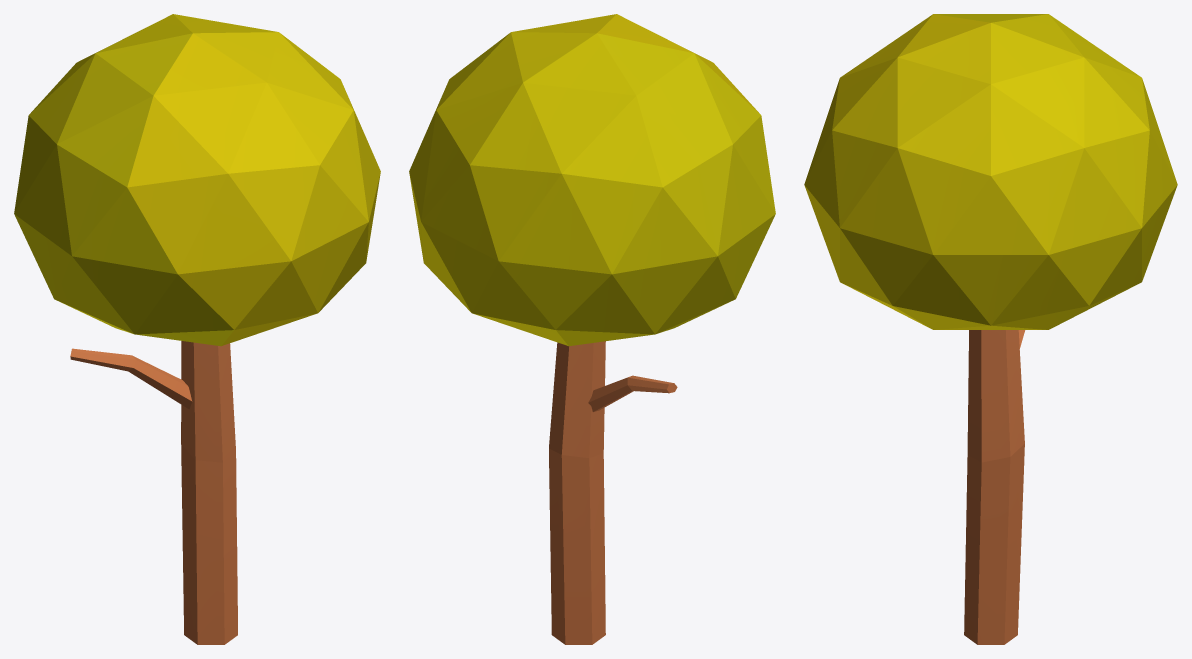
Rendered from tree.fbx.
3 renders of one model, left to right at view 1: azimuth 30°, elevation 25°; view 2: azimuth 150°, elevation 25°; view 3: azimuth 270°, elevation 25°, orthographic.
Parts seen in each view (by area): view 1: Icosphere, Cylinder.006, Cylinder.009; view 2: Icosphere, Cylinder.006, Cylinder.009; view 3: Icosphere, Cylinder.006.
Part boxes in pixels (x1=…): Icosphere: x1=14, y1=14, x2=380, y2=346; Cylinder.006: x1=181, y1=341, x2=237, y2=644; Cylinder.009: x1=70, y1=348, x2=192, y2=409; Icosphere: x1=409, y1=14, x2=775, y2=346; Cylinder.006: x1=549, y1=341, x2=605, y2=644; Cylinder.009: x1=588, y1=375, x2=677, y2=411; Icosphere: x1=804, y1=14, x2=1177, y2=329; Cylinder.006: x1=964, y1=330, x2=1024, y2=644.
Bounding box in the file's own units: 1.9 × 3.57 × 2.
1 material, 1 textured.
